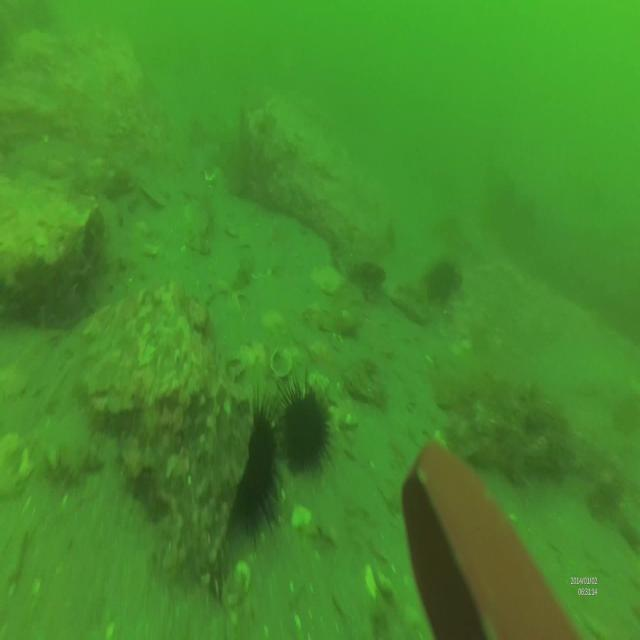echinus: (236, 381, 283, 547), (273, 367, 333, 476), (430, 254, 461, 304)
